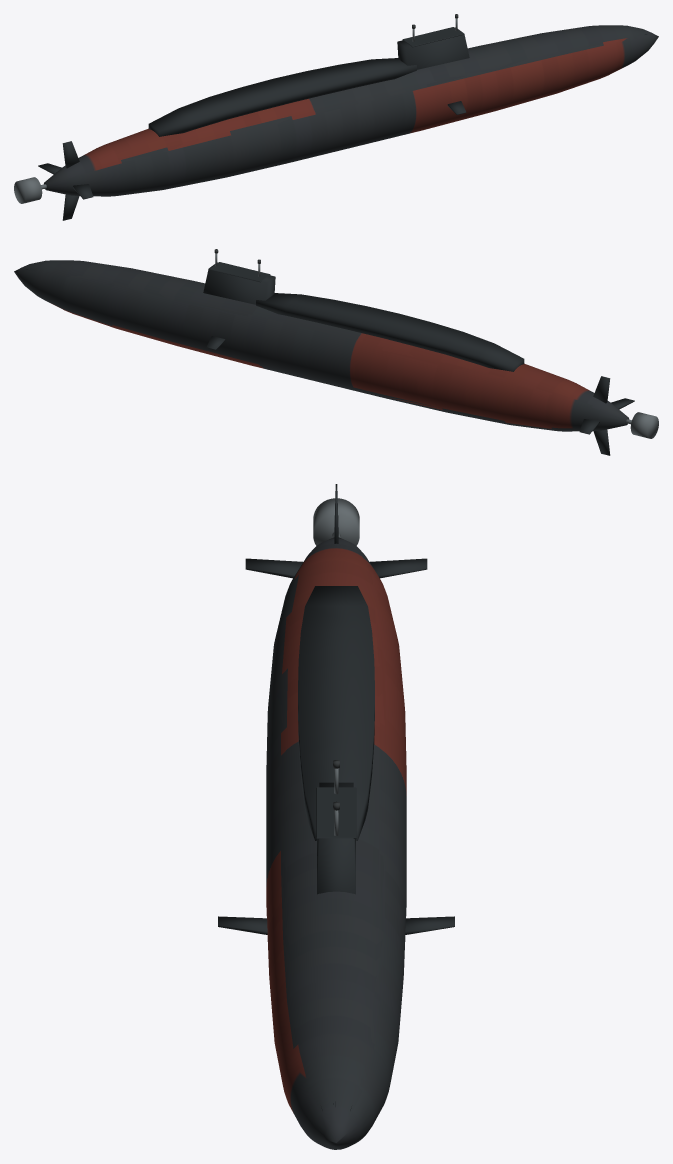
The model's file is IN_SSBN_Arighaat_LOD2.fbx.
The picture shows the model from 3 angles, top to bottom: view 1: azimuth 30°, elevation 25°; view 2: azimuth 150°, elevation 25°; view 3: azimuth 270°, elevation 25°; orthographic projection. The views are drawn at different scales.
Visible parts, largest first — view 1: IN_SSBN_Arighaat_LOD2; view 2: IN_SSBN_Arighaat_LOD2; view 3: IN_SSBN_Arighaat_LOD2.
Boxes of the visible parts, box(x1,y1,x2,y2) form: IN_SSBN_Arighaat_LOD2: box(14, 14, 658, 220); IN_SSBN_Arighaat_LOD2: box(14, 249, 658, 455); IN_SSBN_Arighaat_LOD2: box(218, 484, 454, 1149).
Bounding box in the file's own units: 116 × 18.57 × 19.
6 materials, 1 textured.
